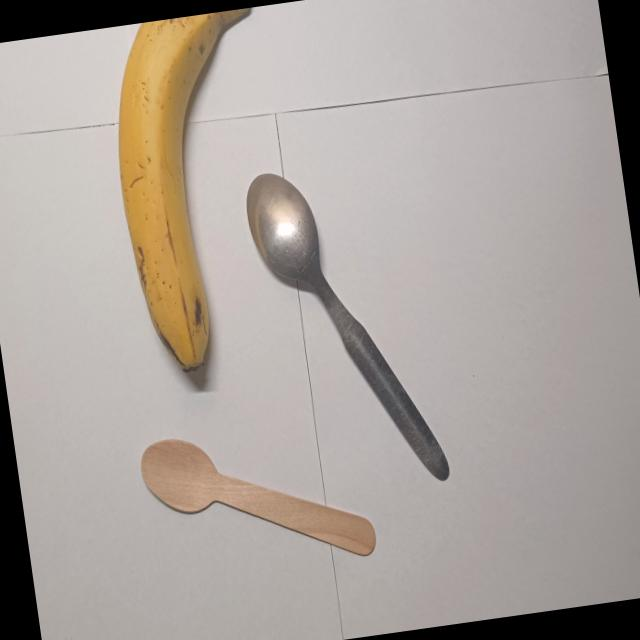Banana-Bio: (94, 6, 308, 383)
Steel-NonBio: (236, 147, 458, 512)
Wooden Spoon-Bio: (132, 405, 384, 591)
